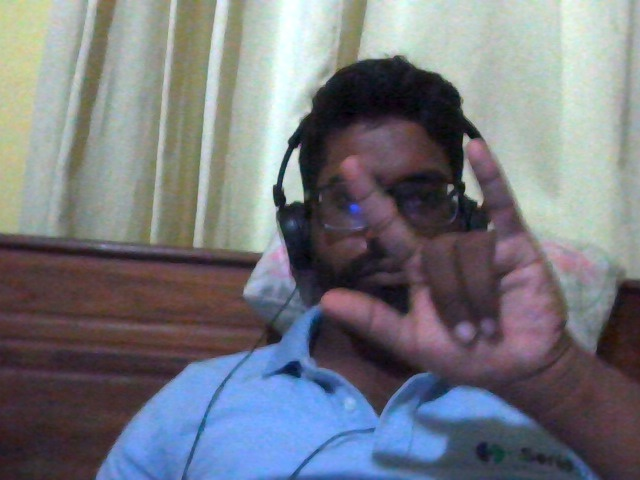I Love You: (299, 129, 588, 420)
